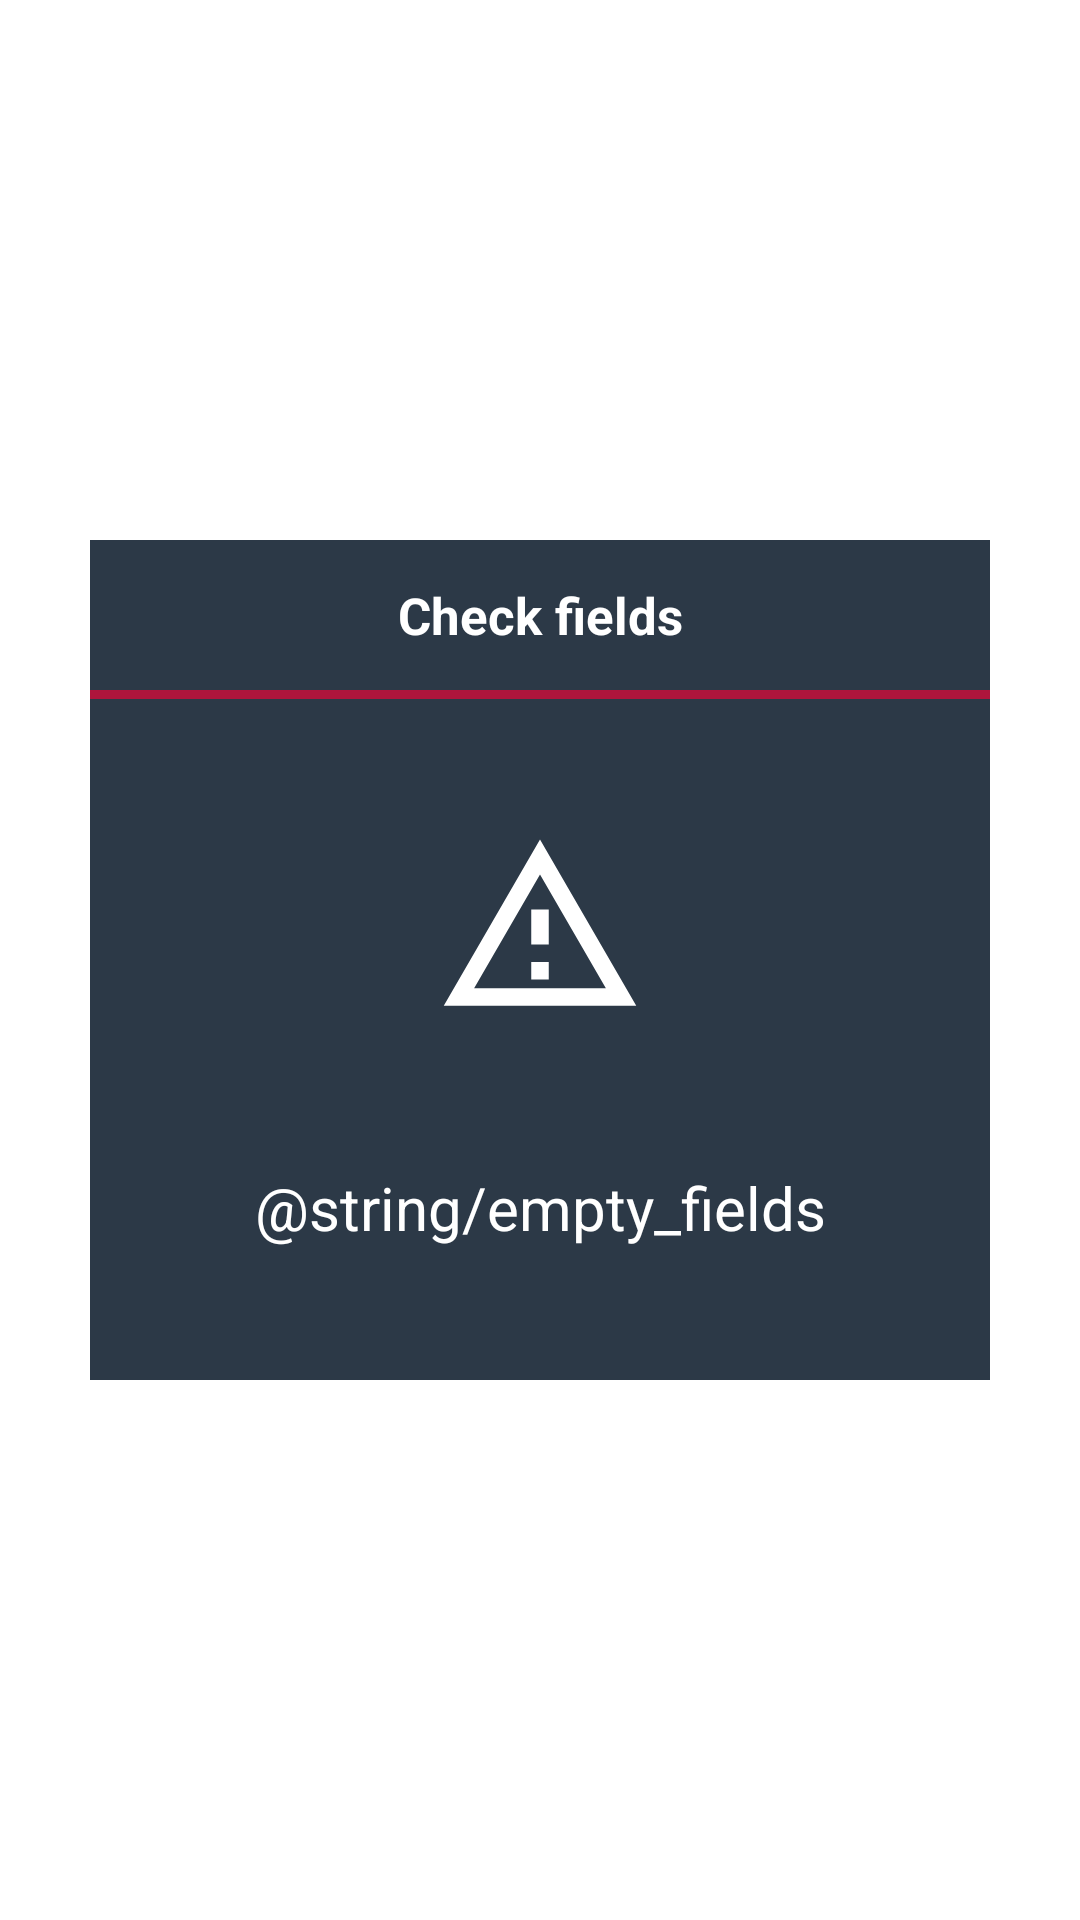

Icons on this 1080*1920 Android screen, each with the point to tap as [x,y]:
warning: [540,923]
